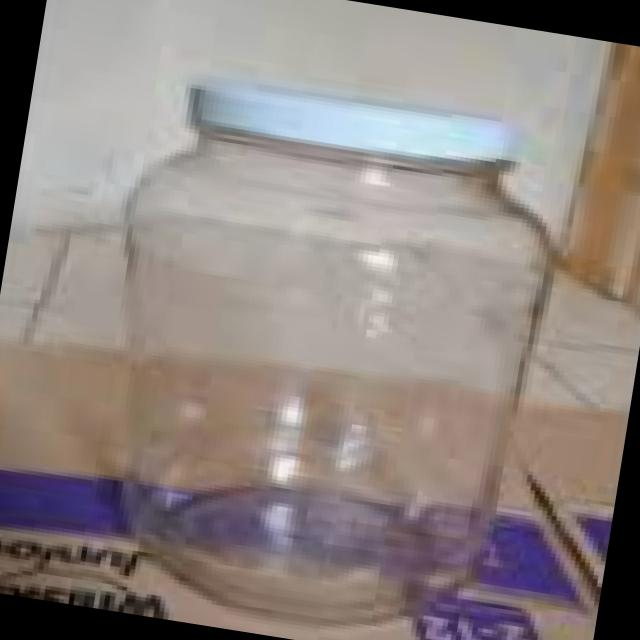ToplesKaca: (62, 54, 578, 640)
